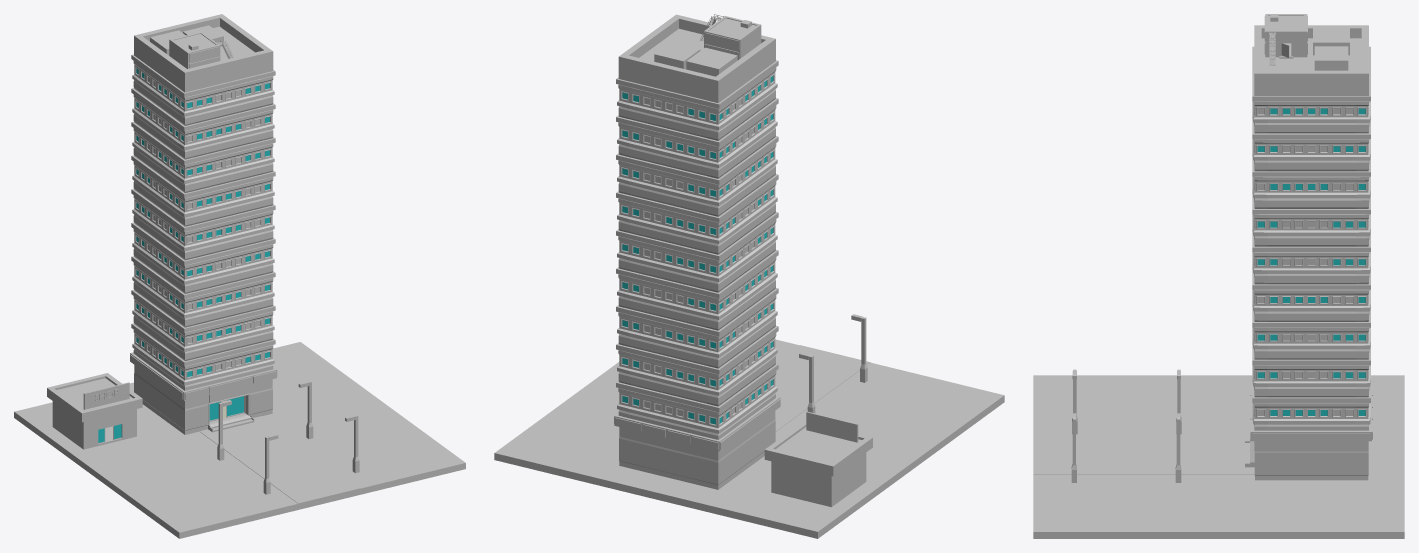
The model's file is build.obj.
The picture shows the model from 3 angles, left to right: view 1: azimuth 30°, elevation 25°; view 2: azimuth 150°, elevation 25°; view 3: azimuth 270°, elevation 25°; orthographic projection. The views are drawn at different scales.
Visible parts, largest first — view 1: Plane, Plane.003, Plane.005, Plane.007, Plane.014; view 2: Plane, Plane.003, Plane.005, Plane.014, Plane.007; view 3: Plane.003, Plane, Plane.005, Plane.007.
Boxes of the visible parts, <box> form: Plane: <box>131,54,275,390</box>; Plane.003: <box>14,342,465,538</box>; Plane.005: <box>130,14,277,434</box>; Plane.007: <box>199,416,360,503</box>; Plane.014: <box>47,373,142,449</box>; Plane: <box>616,60,778,439</box>; Plane.003: <box>494,339,1004,538</box>; Plane.005: <box>614,14,780,489</box>; Plane.014: <box>764,411,872,507</box>; Plane.007: <box>775,345,870,431</box>; Plane.003: <box>1033,375,1404,538</box>; Plane: <box>1252,46,1370,430</box>; Plane.005: <box>1245,14,1372,480</box>; Plane.007: <box>1033,439,1254,474</box>.
Bounding box in the file's own units: 6.53 × 8.41 × 6.53.
